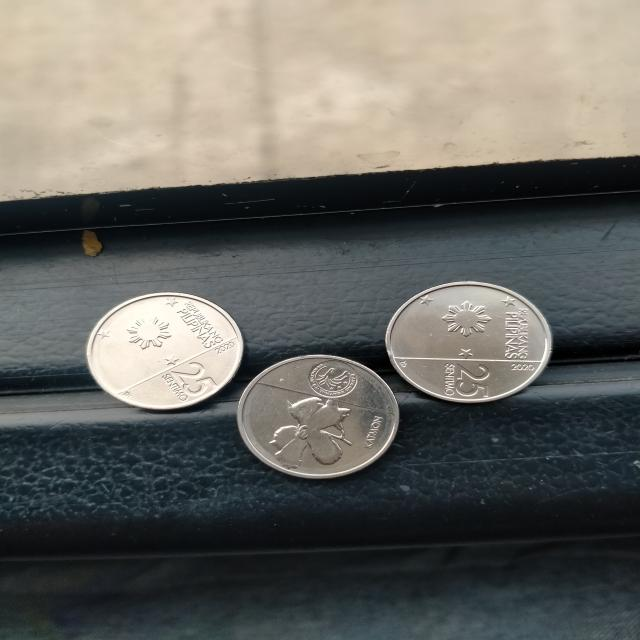25Cent_New_Back: (267, 395, 361, 469)
25Cent_New_Front: (437, 358, 509, 401), (159, 358, 229, 402)
